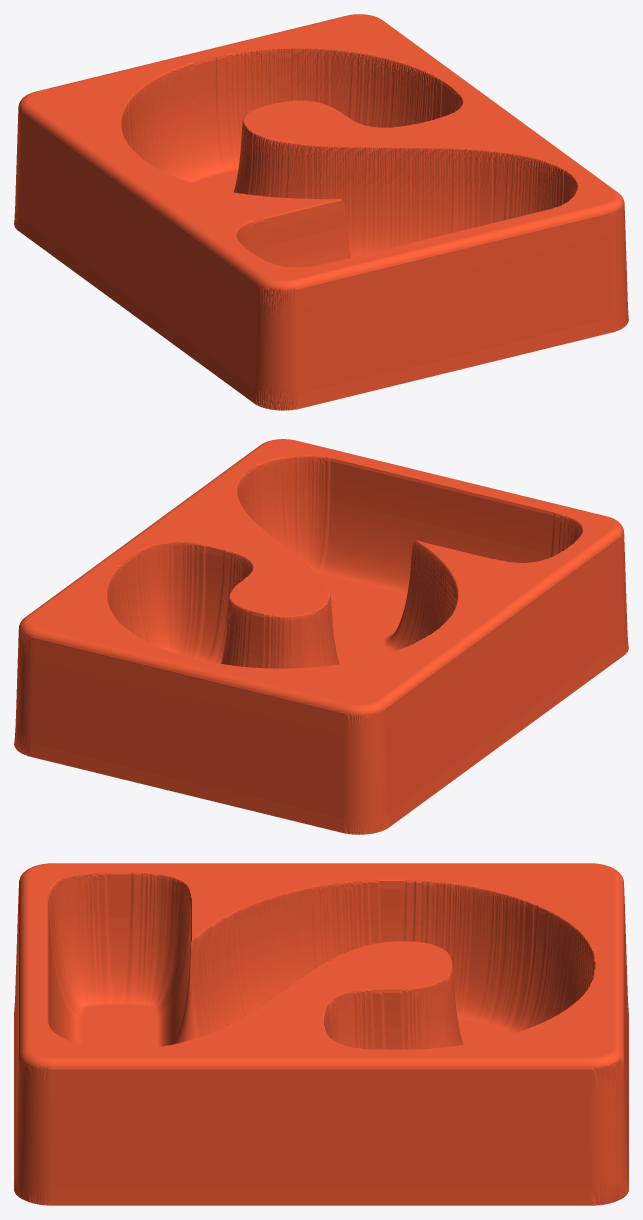
Rendered from mold.glb.
3 views of the same model, one above another, from view 1: azimuth 30°, elevation 25°; view 2: azimuth 150°, elevation 25°; view 3: azimuth 270°, elevation 25° (orthographic). The views are drawn at different scales.
Visible parts, largest first — view 1: geometry_0; view 2: geometry_0; view 3: geometry_0.
Boxes of the visible parts, x1=… form: geometry_0: x1=14, y1=14, x2=628, y2=410; geometry_0: x1=14, y1=439, x2=628, y2=834; geometry_0: x1=14, y1=863, x2=628, y2=1205.
Size of the model in its own units: 0.1139 by 0.0365 by 0.1435.
